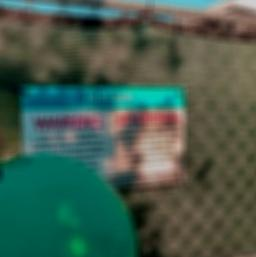algae: (0, 155, 140, 257)
